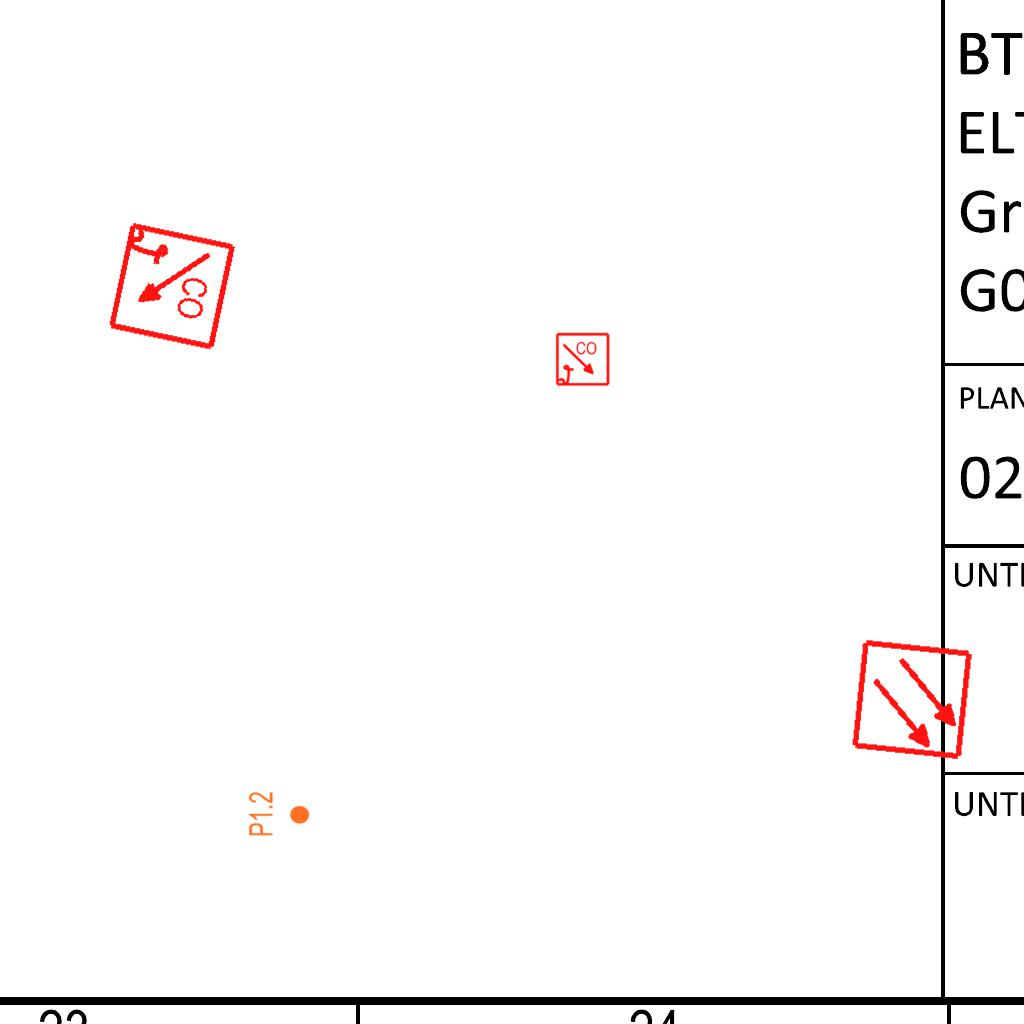Downlight_LED_Einbauleuchten_Flur: (247, 791, 311, 837)
RMO_Rauchmelder_optischer: (850, 637, 975, 762)
ROA_Rauchmelder_optisch_mit_Signalgeber_(Sockelsirene): (103, 219, 238, 354), (555, 332, 611, 388)
